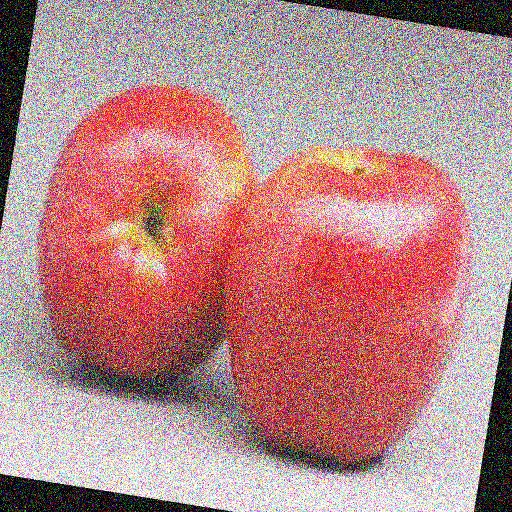fruit: (81, 66, 402, 364), (392, 161, 512, 512)
